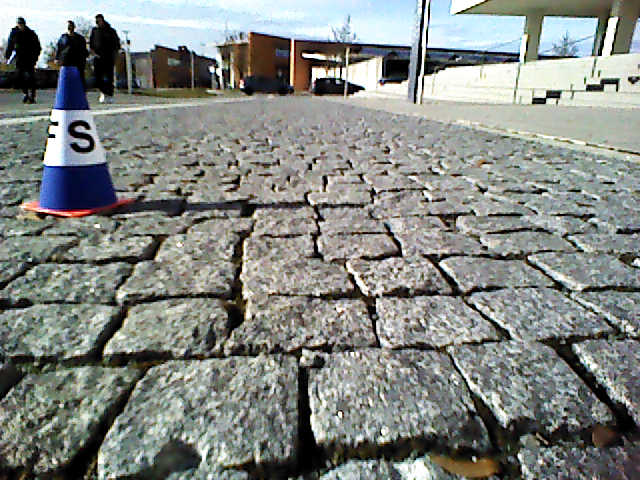bluecone: (41, 67, 117, 206)
